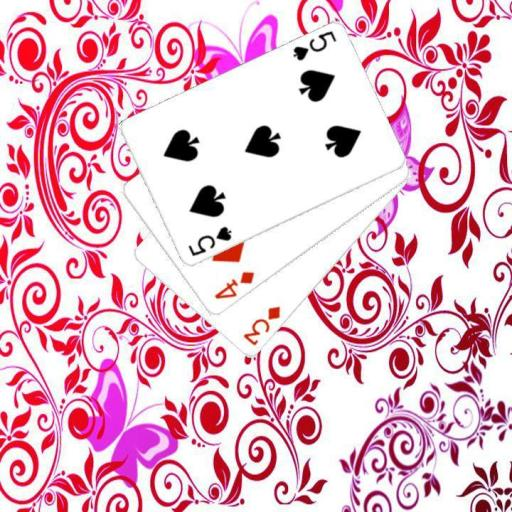card-corner: (240, 303, 282, 348), (185, 223, 233, 258), (289, 28, 338, 62), (211, 268, 256, 302)
